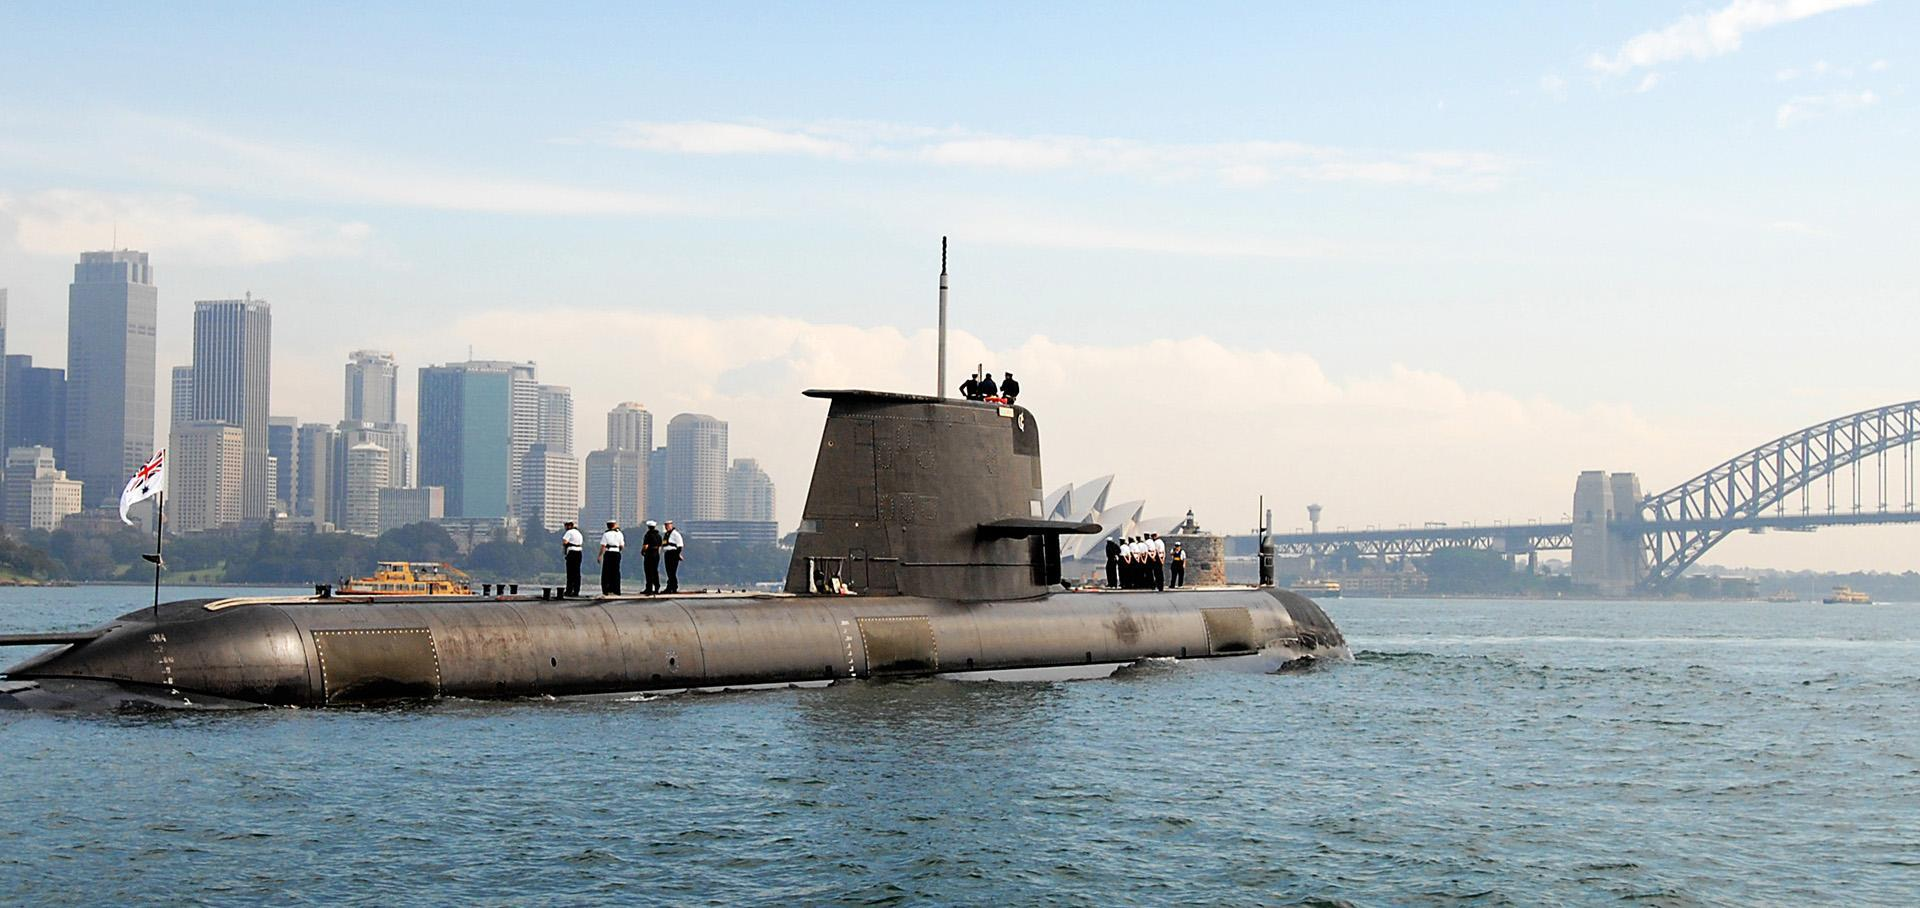Submarine: (13, 195, 1505, 825)
